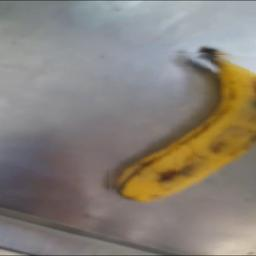Banana Semirotten: (108, 54, 256, 203)
